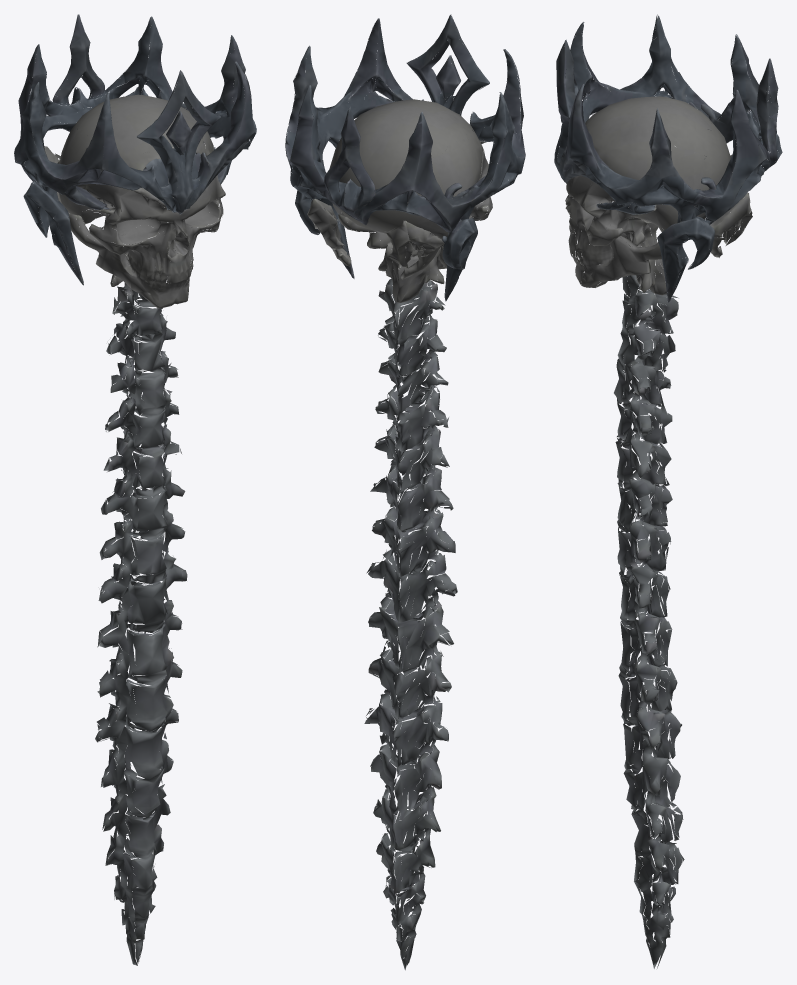
File: blackcrown-skull-mobile.glb
The picture shows the model from 3 angles, left to right: view 1: azimuth 30°, elevation 25°; view 2: azimuth 150°, elevation 25°; view 3: azimuth 270°, elevation 25°; orthographic projection.
Visible parts, largest first — view 1: SPINE, CROWN, SKULL_FACE, SKULL_CRANIUM; view 2: SPINE, CROWN, SKULL_CRANIUM, SKULL_FACE, SKULL_REAR_LEFT, SKULL_REAR_RIGHT; view 3: SPINE, CROWN, SKULL_CRANIUM, SKULL_FACE, SKULL_REAR_RIGHT.
Boxes of the visible parts, bbox=[...] form: SPINE: bbox=[95, 267, 187, 965]; CROWN: bbox=[14, 14, 256, 285]; SKULL_FACE: bbox=[68, 147, 225, 308]; SKULL_CRANIUM: bbox=[59, 94, 213, 224]; SPINE: bbox=[364, 275, 457, 970]; CROWN: bbox=[285, 14, 525, 301]; SKULL_CRANIUM: bbox=[329, 99, 483, 239]; SKULL_FACE: bbox=[338, 140, 492, 302]; SKULL_REAR_LEFT: bbox=[386, 220, 444, 279]; SKULL_REAR_RIGHT: bbox=[307, 199, 351, 266]; SPINE: bbox=[614, 274, 684, 968]; CROWN: bbox=[554, 14, 782, 302]; SKULL_CRANIUM: bbox=[583, 96, 730, 231]; SKULL_FACE: bbox=[565, 148, 678, 295]; SKULL_REAR_RIGHT: bbox=[703, 192, 752, 257].
Bounding box in the file's own units: 0.0293 × 0.1199 × 0.0266.
Materials: 3 (3 with a texture image).
